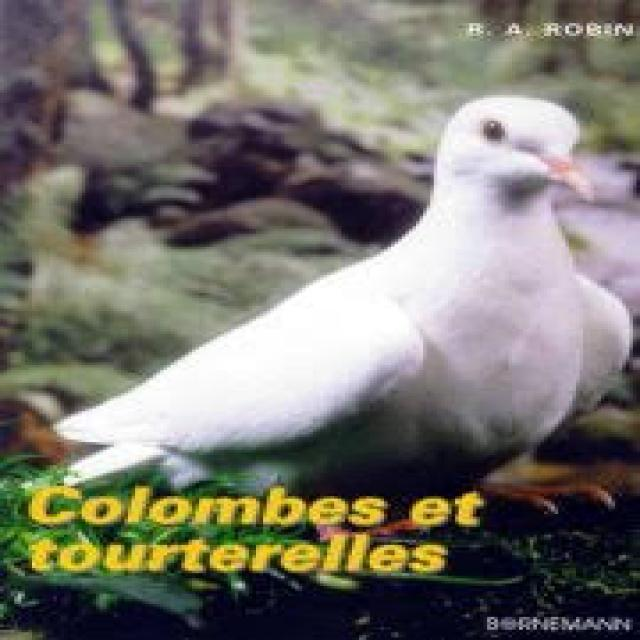pigeon: (44, 82, 640, 506)
